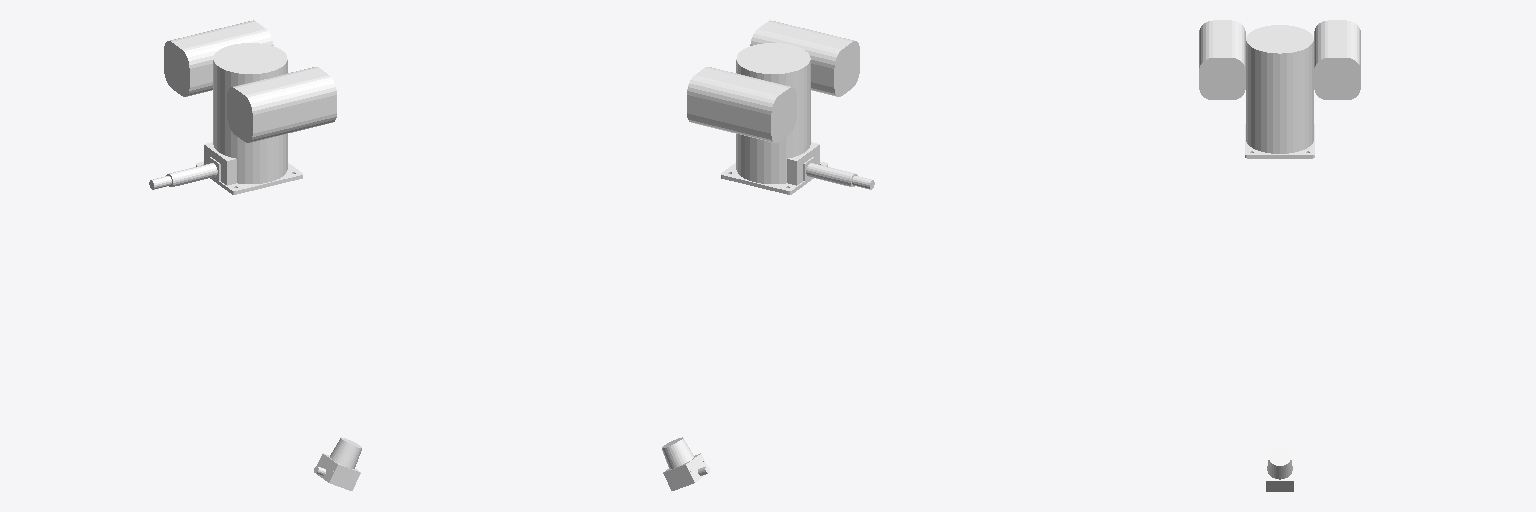
URDF robot description (robot):
<?xml version="1.0" encoding="utf-8"?>
<!-- This URDF was automatically created by SolidWorks to URDF Exporter! Originally created by [author] ([email redacted]) 
     Commit Version: 1.6.0-1-g15f4949  Build Version: 1.6.7594.29634
     For more information, please see http://wiki.ros.org/sw_urdf_exporter -->
<robot>
  <link
    name="base_footprint">
    <inertial>
      <origin
        xyz="0.0215434044943695 -0.00103995912400713 0.335414105218849"
        rpy="0 0 0" />
      <mass
        value="200.0" />
      <inertia
        ixx="0.984480079808739"
        ixy="-0.000360413353967926"
        ixz="0.0540455984733168"
        iyy="2.18214423656878"
        iyz="-0.000762247577087442"
        izz="2.21383185023579" />
    </inertial>
    <visual>
      <origin
        xyz="0 0 0"
        rpy="0 0 0" />
      <geometry>
        <mesh
          filename="package://scout_description/meshes/base.STL" />
      </geometry>
      <material
        name="">
        <color
          rgba="1 1 1 1" />
      </material>
    </visual>
    <collision>
      <origin
        xyz="0 0 0"
        rpy="0 0 0" />
      <geometry>
        <mesh
          filename="package://scout_description/meshes/base.STL" />
      </geometry>
    </collision>
  </link>
  <link
    name="camera_link">
    <inertial>
      <origin
        xyz="1.76998676938736E-17 -0.0421619986330686 -0.00198394192381568"
        rpy="0 0 0" />
      <mass
        value="1.89795354267411" />
      <inertia
        ixx="0.0414196932276227"
        ixy="-5.82662976281917E-19"
        ixz="5.89906111302013E-19"
        iyy="0.0251557885229125"
        iyz="-0.000422298404546788"
        izz="0.0329009847590903" />
    </inertial>
    <visual>
      <origin
        xyz="0 0 0"
        rpy="0 0 0" />
      <geometry>
        <mesh
          filename="package://scout_description/meshes/camera.STL" />
      </geometry>
      <material
        name="">
        <color
          rgba="1 1 1 1" />
      </material>
    </visual>
    <collision>
      <origin
        xyz="0 0 0"
        rpy="0 0 0" />
      <geometry>
        <mesh
          filename="package://scout_description/meshes/camera.STL" />
      </geometry>
    </collision>
  </link>
  <joint
    name="camera"
    type="fixed">
    <origin
      xyz="0.277 0 0.888"
      rpy="1.5708 0 1.5708" />
    <parent
      link="base_footprint" />
    <child
      link="camera_link" />
    <axis
      xyz="0 0 0" />
  </joint>
  <link
    name="lidar_link">
    <inertial>
      <origin
        xyz="-2.82993707677662E-18 0.00057956722758995 0.0358805205158776"
        rpy="0 0 0" />
      <mass
        value="20.0" />
      <inertia
        ixx="0.000198523521424822"
        ixy="9.55491588139032E-21"
        ixz="6.87904885603074E-21"
        iyy="0.000192886838365622"
        iyz="3.47413294984297E-06"
        izz="0.000124139486407032" />
    </inertial>
    <visual>
      <origin
        xyz="0 0 0"
        rpy="0 0 0" />
      <geometry>
        <mesh
          filename="package://scout_description/meshes/lidar.STL" />
      </geometry>
      <material
        name="">
        <color
          rgba="1 1 1 1" />
      </material>
    </visual>
    <collision>
      <origin
        xyz="0 0 0"
        rpy="0 0 0" />
      <geometry>
        <mesh
          filename="package://scout_description/meshes/lidar.STL" />
      </geometry>
    </collision>
  </link>
  <joint
    name="lidar"
    type="fixed">
    <origin
      xyz="0.46245 0 -0.015529"
      rpy="0.5236 0 1.5708" />
    <parent
      link="base_footprint" />
    <child
      link="lidar_link" />
    <axis
      xyz="0 0 0" />
  </joint>
  <!-- <link
    name="rslidar_link">
    <inertial>
      <origin
        xyz="0.000186795470860655 0.00209001700760081 0.0365813705634134"
        rpy="0 0 0" />
      <mass
        value="0.118522641382008" />
      <inertia
        ixx="0.00013387553459028"
        ixy="-6.23732681354514E-07"
        ixz="2.58949508268793E-08"
        iyy="0.000133313132563451"
        iyz="-4.54120102392137E-08"
        izz="0.000242424728275681" />
    </inertial>
    <visual>
      <origin
        xyz="0 0 0"
        rpy="0 0 0" />
      <geometry>
        <mesh
          filename="package://scout_description/meshes/rslidar.STL" />
      </geometry>
      <material
        name="">
        <color
          rgba="1 1 1 1" />
      </material>
    </visual>
    <collision>
      <origin
        xyz="0 0 0"
        rpy="0 0 0" />
      <geometry>
        <mesh
          filename="package://scout_description/meshes/rslidar.STL" />
      </geometry>
    </collision>
  </link>
  <joint
    name="rslidar"
    type="fixed">
    <origin
      xyz="0.548 0 0.539"
      rpy="0 0 0" />
    <parent
      link="base_footprint" />
    <child
      link="rslidar_link" />
    <axis
      xyz="0 0 0" />
  </joint> -->
</robot>

--- What the picture shows (computed from the rendered views, not written in the file) ---
Views: 3 orthographic renders of the robot side by side, from view 1: azimuth 30°, elevation 25°; view 2: azimuth 150°, elevation 25°; view 3: azimuth 270°, elevation 25°.
Robot: robot — 3 links, 2 joints (2 fixed); root link base_footprint; default pose: every joint at zero.
Links seen in each view (by area): view 1: camera_link, lidar_link; view 2: camera_link, lidar_link; view 3: camera_link, lidar_link.
Boxes of the visible links, bbox=[...] form: camera_link: bbox=[149, 20, 336, 194]; lidar_link: bbox=[314, 437, 361, 490]; camera_link: bbox=[687, 20, 874, 194]; lidar_link: bbox=[662, 437, 709, 490]; camera_link: bbox=[1199, 20, 1360, 158]; lidar_link: bbox=[1266, 448, 1293, 491].
Bounding box of the posed robot: 0.4703 × 0.346 × 0.9685 m (x, y, z).
2 mesh visuals loaded from 3 distinct referenced files (2 binary STL); not drawn: 1 (reference not matched to a file when rendering).